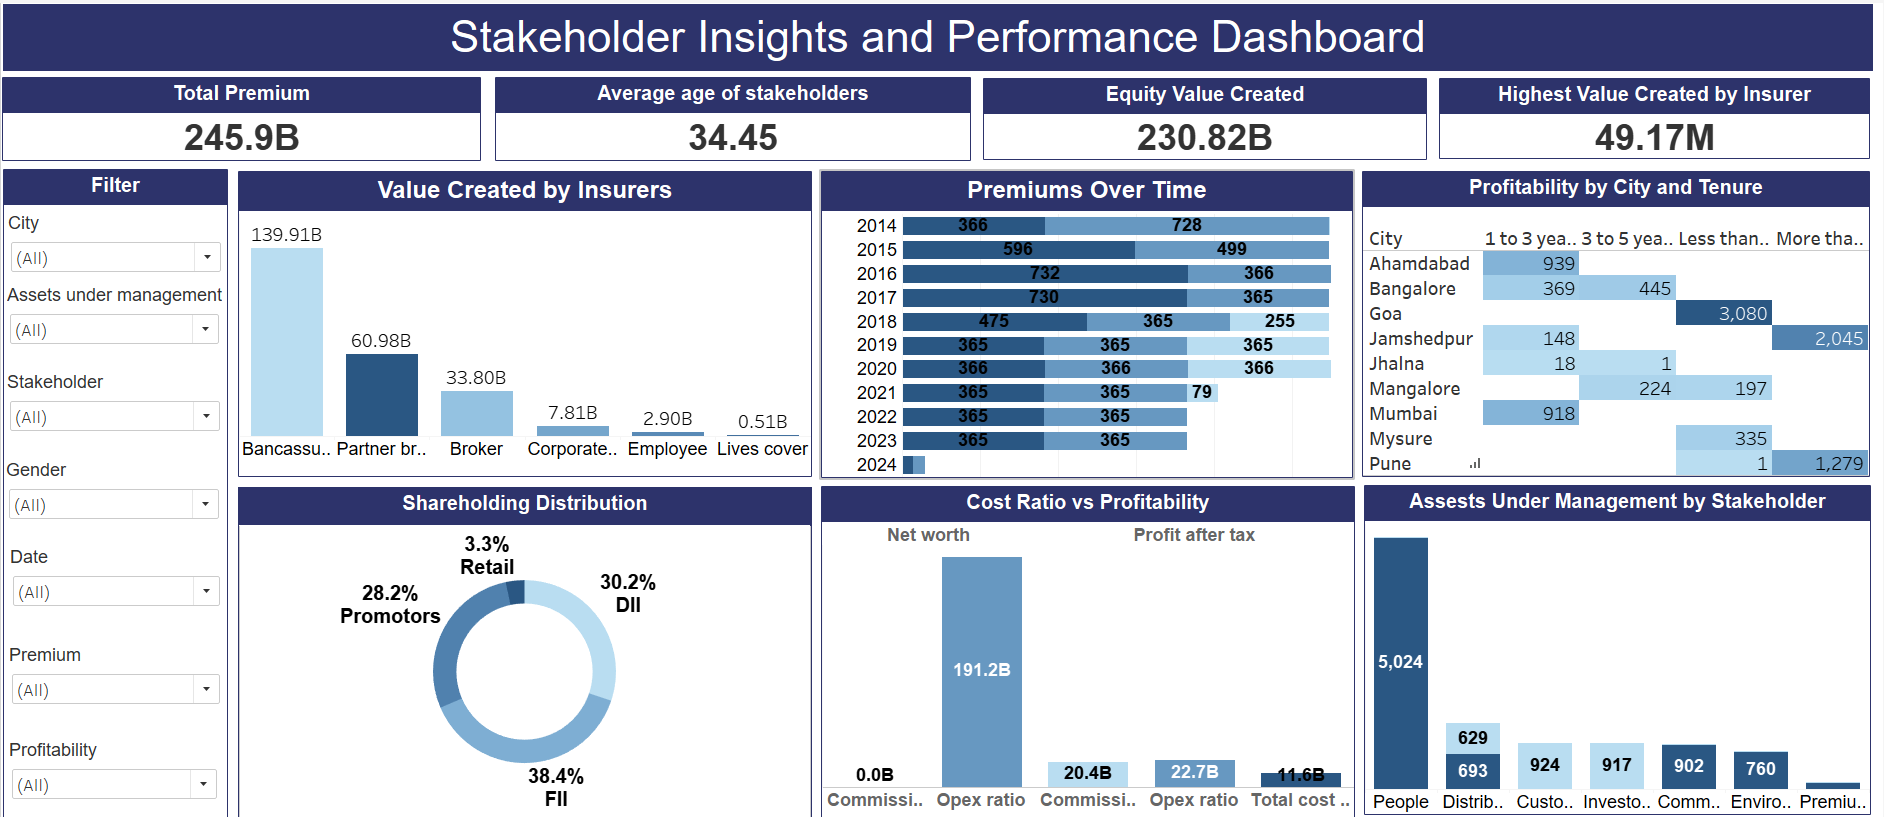

The page's visual inventory and layout, read from the dashboard file:
{"tool":"tableau","page":{"name":"Dashboard 1","canvas":[1000,1000],"units":"permille","ordinal":0},"visuals":[{"type":"text","box":[2.4,4.9,995.2,74.6]},{"type":"worksheet","title":"Total Premium","mark":"Automatic","box":[2.4,79.5,248.8,111.2]},{"type":"worksheet","title":"Average age of stakeholders","mark":"Automatic","box":[251.2,79.5,248.8,111.2]},{"type":"worksheet","title":"Equity Value Created","mark":"Automatic","box":[500,79.5,248.8,111.2]},{"type":"worksheet","title":"Highest Value Created by Insurer","mark":"Automatic","box":[748.8,79.5,248.8,111.2]},{"type":"worksheet","title":"filters","mark":"Automatic","box":[5.4,196.8,96.8,99]},{"type":"worksheet","title":"Value Created by Insurers","mark":"Automatic","rows":["Value Created"],"cols":["Insurer"],"box":[104,198,445.3,260.4]},{"type":"worksheet","title":"Premiums Over Time","mark":"Bar","rows":["Date"],"cols":["Date"],"box":[549.3,198,444.7,260.4]},{"type":"filter","title":"filters","param":"[federated.0do22u604h2u2n14lxhp806kn5ye].[none:Premium 1:nk]","box":[5.4,295.8,96.8,99]},{"type":"filter","title":"filters","param":"[federated.0do22u604h2u2n14lxhp806kn5ye].[none:Profitability:nk]","box":[5.4,394.9,96.8,99]},{"type":"worksheet","title":"Profitability by City and Tenure","mark":"Square","rows":["City"],"cols":["Policy tenuer"],"box":[105.2,465.8,444.1,255.5]},{"type":"worksheet","title":"Assests Under Management by Stakeholder","mark":"Automatic","rows":["Assets under management"],"cols":["Stakeholder"],"box":[549.3,465.8,443.5,255.5]},{"type":"filter","title":"filters","param":"[federated.0do22u604h2u2n14lxhp806kn5ye].[my:Date:ok]","box":[5.4,493.9,96.8,99]},{"type":"filter","title":"filters","param":"[federated.0do22u604h2u2n14lxhp806kn5ye].[none:Gender:nk]","box":[5.4,592.9,96.8,99]},{"type":"filter","title":"filters","param":"[federated.0do22u604h2u2n14lxhp806kn5ye].[none:Stakeholder:nk]","box":[5.4,691.9,96.8,99]},{"type":"worksheet","title":"Shareholding Distribution","mark":"Pie","rows":["Calculation_965740691821850624","Calculation_965740691821850624"],"box":[102.8,726.2,446.5,264.1]},{"type":"worksheet","title":"Cost Ratio vs Profitability","mark":"Automatic","rows":["Value Created"],"cols":["Profitability","Cost ratio"],"box":[549.3,726.2,445.9,264.1]},{"type":"filter","title":"filters","param":"[federated.0do22u604h2u2n14lxhp806kn5ye].[none:Assets under management:nk]","box":[5.4,791,96.8,99]},{"type":"filter","title":"filters","param":"[federated.0do22u604h2u2n14lxhp806kn5ye].[none:City:nk]","box":[5.4,890,96.8,99]}]}

Visuals, with their boxes on the dashboard's canvas, which has no fixed pixel size, in thousandths of its width and height (x1, y1, x2, y2). These are canvas units, not pixel positions in the 1884x817 screenshot, which may show the page scaled, cropped or inside an application window:
text: detection(2, 5, 998, 80)
"Total Premium" worksheet: detection(2, 80, 251, 191)
"Average age of stakeholders" worksheet: detection(251, 80, 500, 191)
"Equity Value Created" worksheet: detection(500, 80, 749, 191)
"Highest Value Created by Insurer" worksheet: detection(749, 80, 998, 191)
"filters" worksheet: detection(5, 197, 102, 296)
"Value Created by Insurers" worksheet: detection(104, 198, 549, 458)
"Premiums Over Time" worksheet (Bar marks): detection(549, 198, 994, 458)
"filters" filter: detection(5, 296, 102, 395)
"filters" filter: detection(5, 395, 102, 494)
"Profitability by City and Tenure" worksheet (Square marks): detection(105, 466, 549, 721)
"Assests Under Management by Stakeholder" worksheet: detection(549, 466, 993, 721)
"filters" filter: detection(5, 494, 102, 593)
"filters" filter: detection(5, 593, 102, 692)
"filters" filter: detection(5, 692, 102, 791)
"Shareholding Distribution" worksheet (Pie marks): detection(103, 726, 549, 990)
"Cost Ratio vs Profitability" worksheet: detection(549, 726, 995, 990)
"filters" filter: detection(5, 791, 102, 890)
"filters" filter: detection(5, 890, 102, 989)
